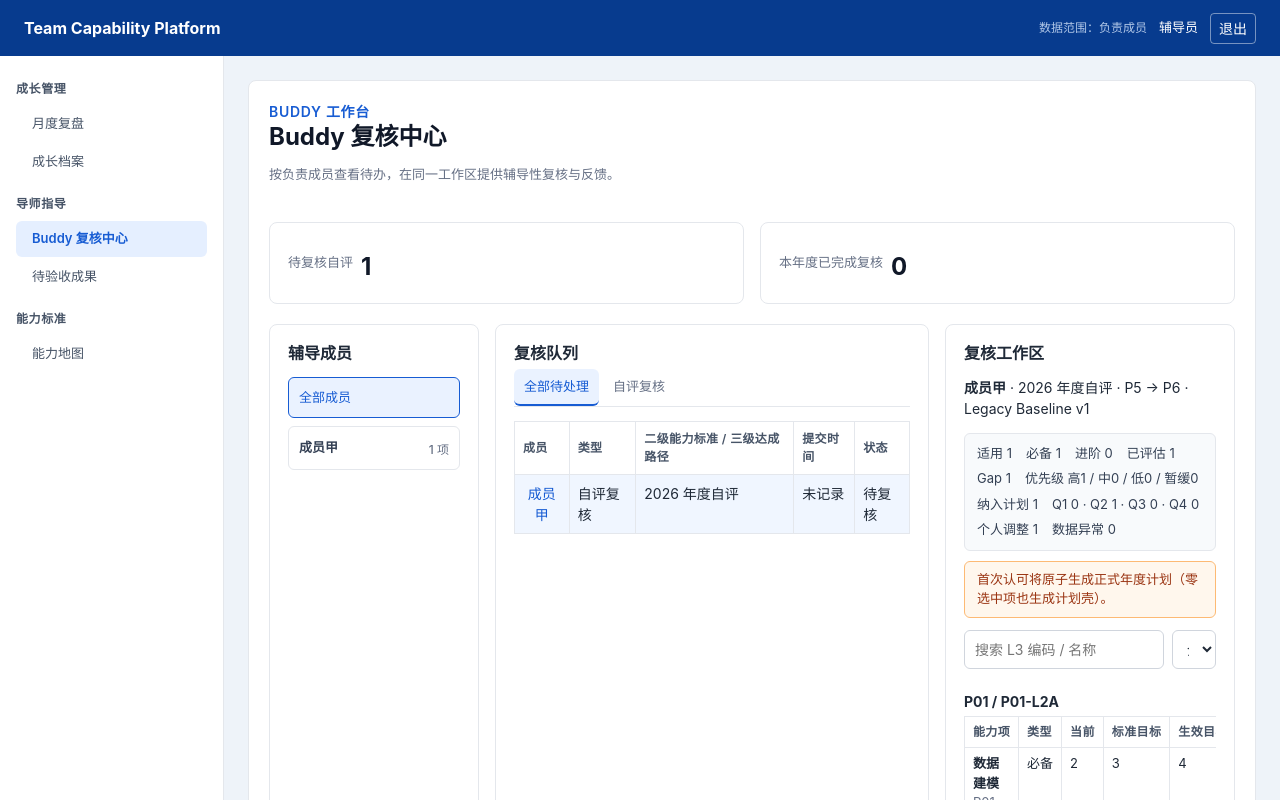
BuddyReviewCenter › searches by L3 code
Expected: the text "数据建模" is shown, [973,755,999,790]
In the search field named "搜索能力项": [1064, 649] box [964,630,1164,668], type "NO-SUCH-CODE"
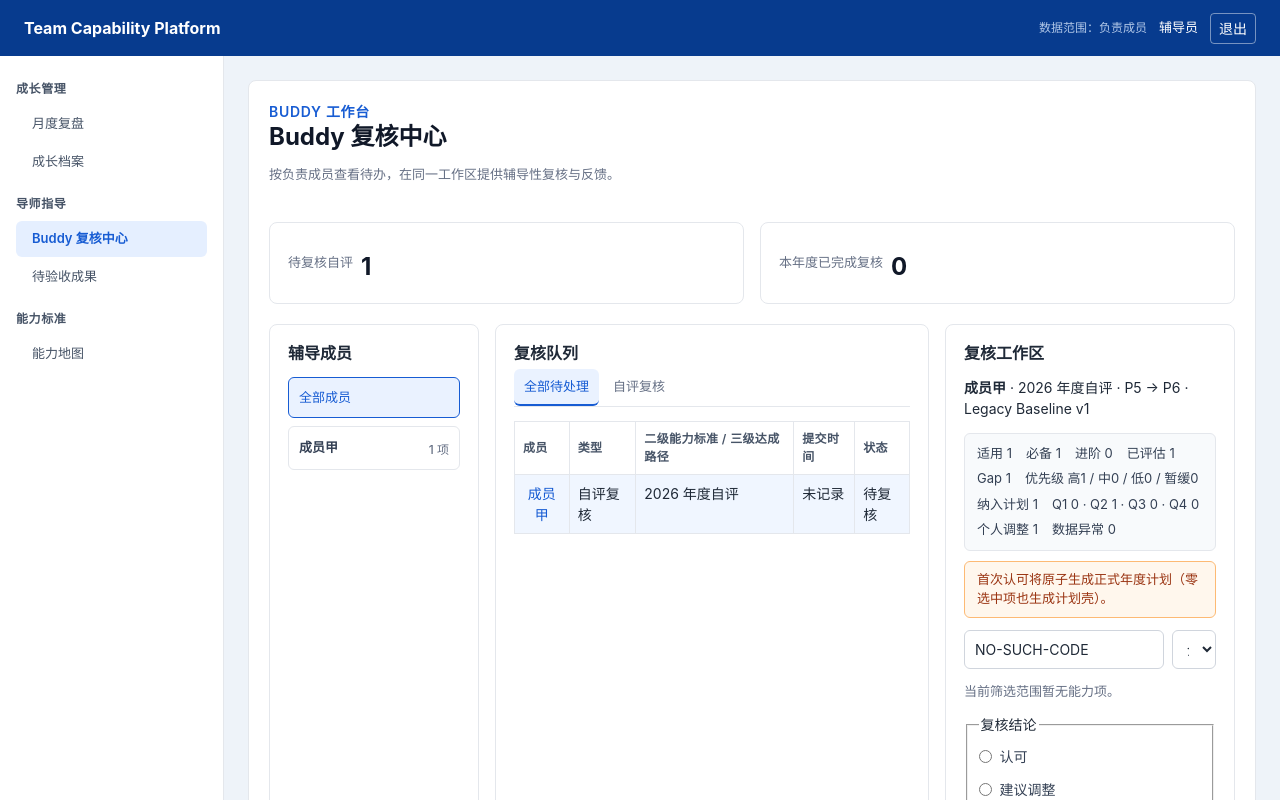
Expected: the text "当前筛选范围暂无能力项。" is shown, [964,682,1120,698]
